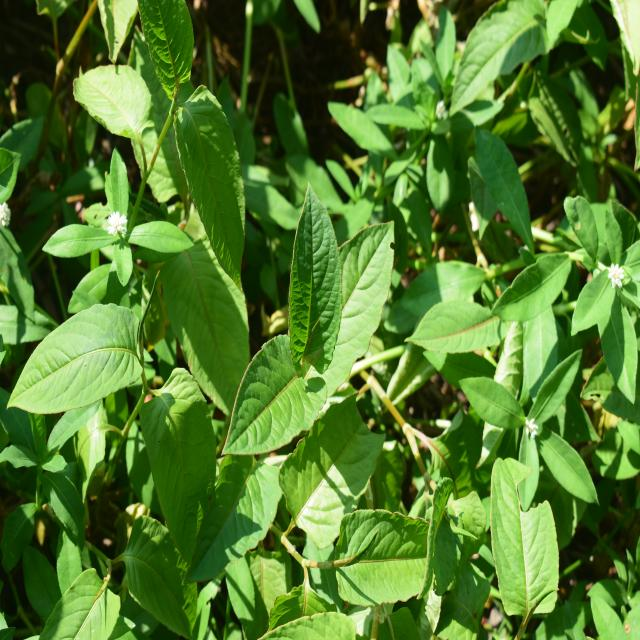Chinese_knotweed: (242, 190, 413, 618)
